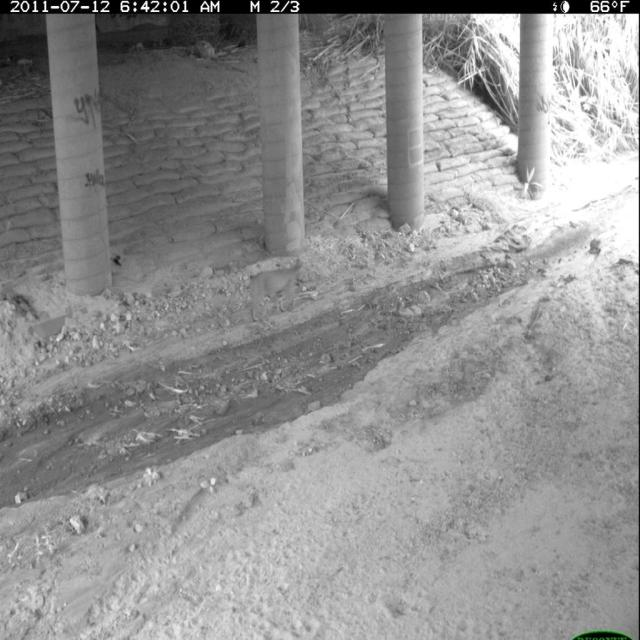bobcat: (240, 257, 310, 326)
